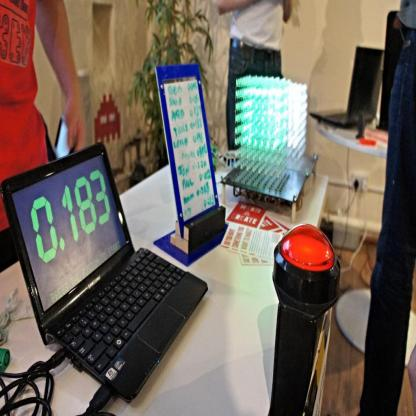board: (1, 118, 203, 405), (309, 46, 385, 130)
